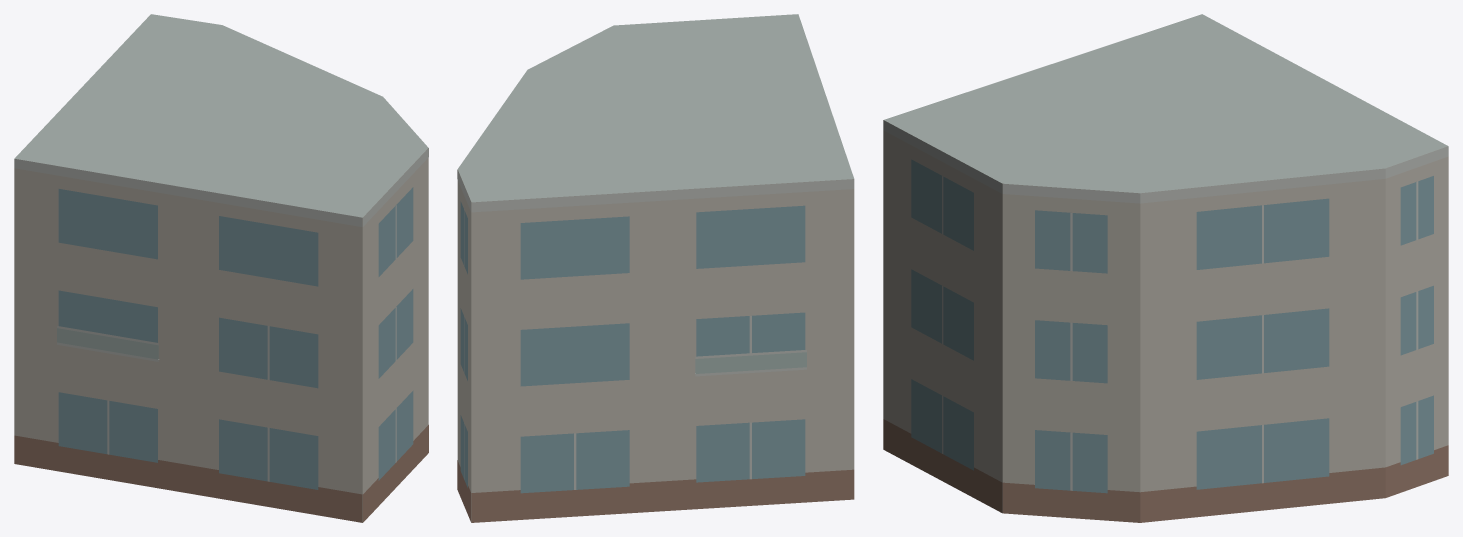
The model's file is survey-upis-32718185.glb.
3 views of the same model, side by side, from view 1: azimuth 30°, elevation 25°; view 2: azimuth 150°, elevation 25°; view 3: azimuth 270°, elevation 25° (orthographic). The views are drawn at different scales.
Parts seen in each view (by area): view 1: survey-upis-32718185.tmp; view 2: survey-upis-32718185.tmp; view 3: survey-upis-32718185.tmp.
Boxes of the visible parts, bbox=[...] form: survey-upis-32718185.tmp: bbox=[14, 14, 428, 522]; survey-upis-32718185.tmp: bbox=[457, 14, 854, 522]; survey-upis-32718185.tmp: bbox=[883, 14, 1448, 522].
Size of the model in its own units: 9.11 by 7.8 by 12.13.
